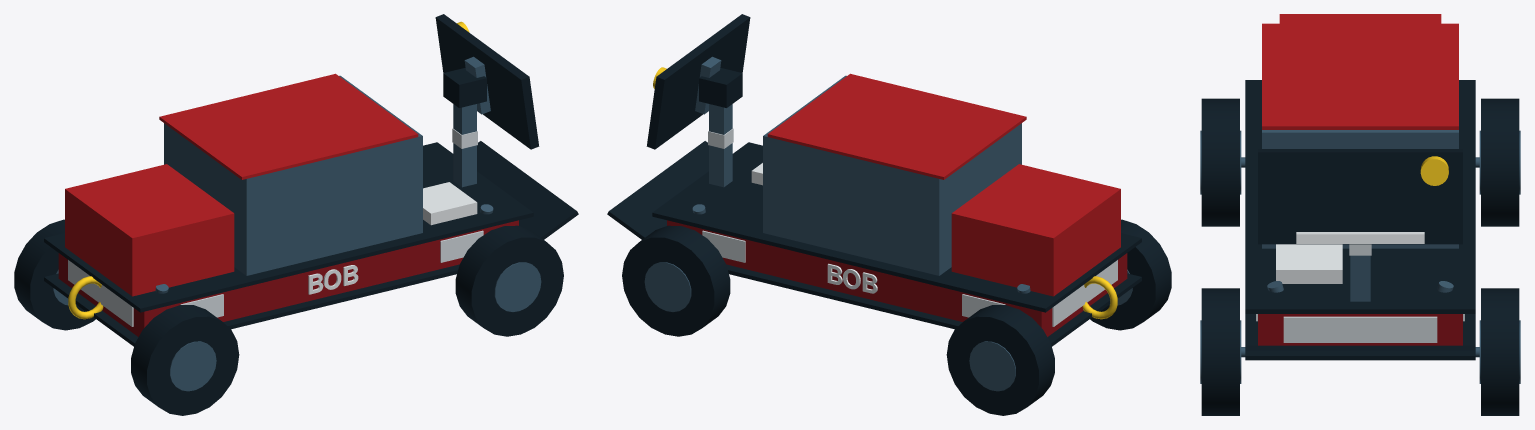
File: bob-v2.glb
3 views of the same model, side by side, from view 1: azimuth 30°, elevation 25°; view 2: azimuth 150°, elevation 25°; view 3: azimuth 270°, elevation 25° (orthographic). The views are drawn at different scales.
Parts seen in each view (by area): view 1: Drone hangar, Payload compartment, Upper plate, Hangar door right, Electronics bay, Tyre front right, Tyre rear right, Hangar door left, Phone, Tyre rear left, Sloped front plate, Lower plate (+10 smaller); view 2: Drone hangar, Payload compartment, Upper plate, Hangar door left, Electronics bay, Tyre front left, Tyre rear left, Hangar door right, Phone, Tyre rear right, Sloped front plate, Lower plate (+9 smaller); view 3: Phone, Upper plate, Hangar door left, Hangar door right, Tyre rear right, Tyre rear left, Tyre front right, Tyre front left, Drone hangar, Reflective tape front, Lower plate, LCD and status LEDs (+6 smaller).
Part boxes in pixels (left/top/right/bottom): Drone hangar: left=164, top=75, right=422, bottom=275; Payload compartment: left=65, top=164, right=234, bottom=296; Upper plate: left=44, top=142, right=533, bottom=312; Hangar door right: left=200, top=104, right=418, bottom=179; Electronics bay: left=58, top=220, right=518, bottom=336; Tyre front right: left=455, top=225, right=563, bottom=336; Tyre rear right: left=131, top=305, right=239, bottom=415; Hangar door left: left=159, top=73, right=376, bottom=149; Phone: left=435, top=14, right=539, bottom=149; Tyre rear left: left=14, top=219, right=95, bottom=330; Sloped front plate: left=477, top=141, right=578, bottom=239; Lower plate: left=44, top=264, right=459, bottom=346; Drone hangar: left=763, top=75, right=1021, bottom=275; Payload compartment: left=951, top=164, right=1120, bottom=296; Upper plate: left=652, top=142, right=1141, bottom=312; Hangar door left: left=767, top=104, right=985, bottom=179; Electronics bay: left=667, top=220, right=1127, bottom=336; Tyre front left: left=622, top=225, right=730, bottom=336; Tyre rear left: left=946, top=305, right=1054, bottom=415; Hangar door right: left=809, top=73, right=1026, bottom=149; Phone: left=646, top=14, right=750, bottom=149; Tyre rear right: left=1090, top=219, right=1171, bottom=330; Sloped front plate: left=607, top=141, right=708, bottom=239; Lower plate: left=726, top=264, right=1141, bottom=346; Phone: left=1258, top=149, right=1462, bottom=244; Upper plate: left=1245, top=80, right=1475, bottom=313; Hangar door left: left=1360, top=23, right=1458, bottom=129; Hangar door right: left=1262, top=23, right=1360, bottom=129; Tyre rear right: left=1201, top=98, right=1239, bottom=226; Tyre rear left: left=1481, top=98, right=1519, bottom=226; Tyre front right: left=1201, top=288, right=1239, bottom=415; Tyre front left: left=1481, top=288, right=1519, bottom=415; Drone hangar: left=1262, top=130, right=1458, bottom=248; Reflective tape front: left=1283, top=316, right=1437, bottom=342; Lower plate: left=1245, top=314, right=1475, bottom=360; LCD and status LEDs: left=1276, top=244, right=1342, bottom=283.
Bounding box in the file's own units: 0.4978 × 0.2396 × 0.25.
